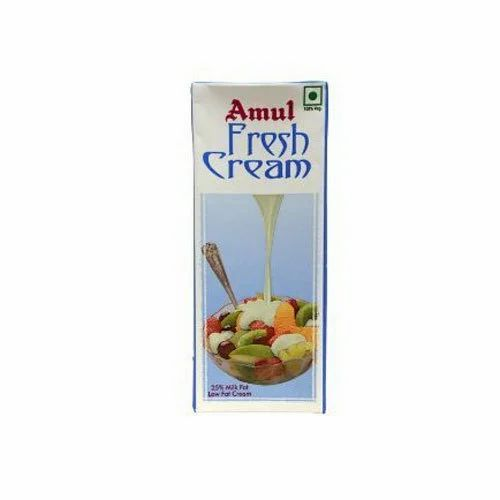Amul: (220, 97, 301, 122)
